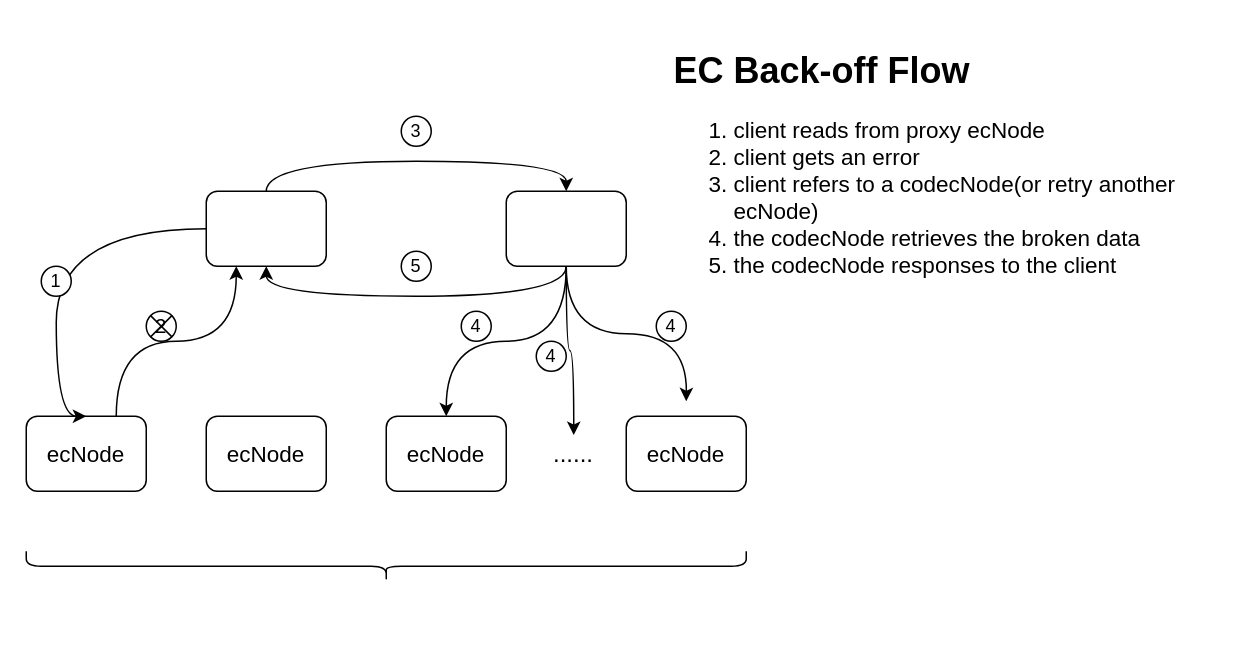
The diagram is 1233 pixels wide and 651 high, and some of its shapes have lost their labels. Each missing label, with the centre of its shape:
"client" goes at pixel 265 228.
"codecNode" goes at pixel 565 228.
"EC Partition" goes at pixel 385 565.
